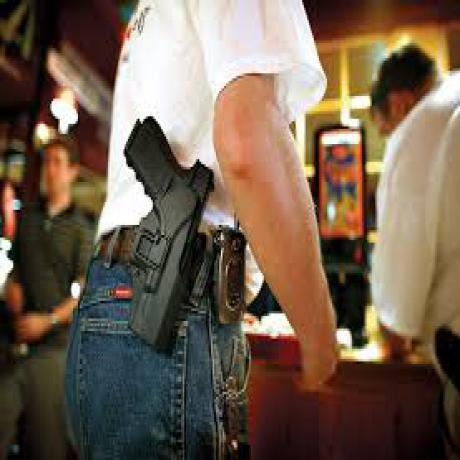Guns: (114, 94, 214, 354)
